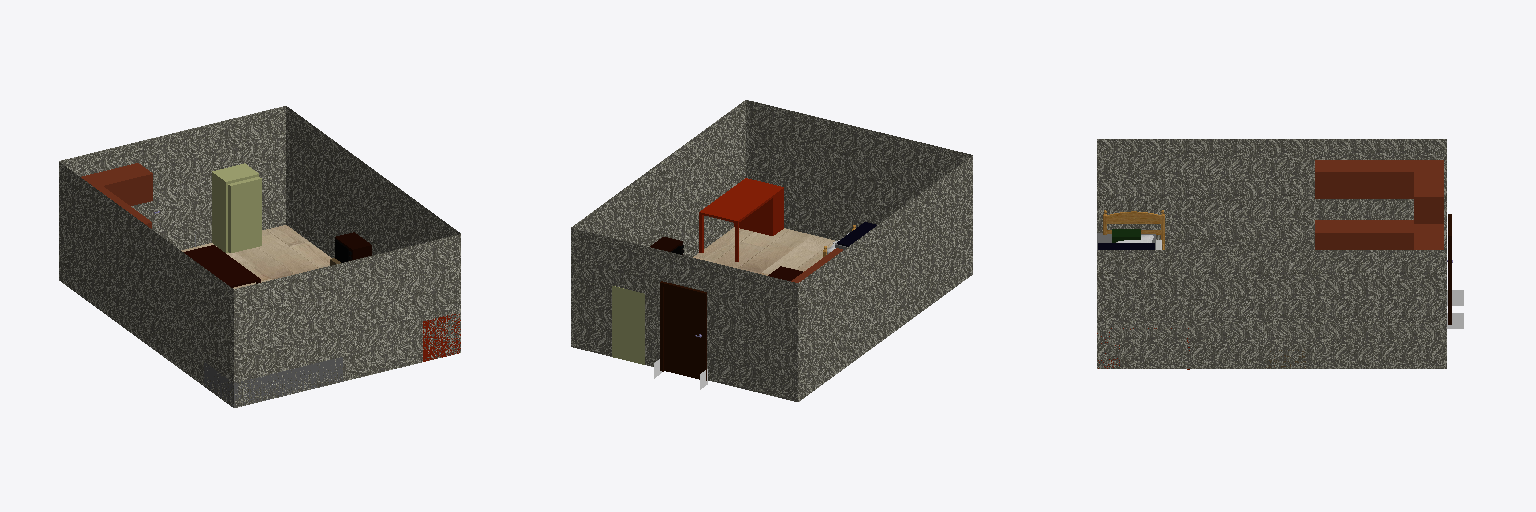
The picture shows the model from 3 angles: view 1: azimuth 30°, elevation 25°; view 2: azimuth 150°, elevation 25°; view 3: azimuth 270°, elevation 25°; orthographic projection.
Visible parts, largest first — view 1: Plane, Plane.003, Cube.005_Cube.007, Cube.010_Cube.014, Cube.011_Cube.015, Cube.004_Cube.006, Cube.008_Cube.019, Cube.001_Cube.012, Cube.015_Cube.023; view 2: Plane, Plane.003, Door.001_Door, Cube.004_Cube.006, Cube_Cube.002, Cube.001_Cube.012, DoorFrame_DoorFrane; view 3: Plane, Cube.011_Cube.015, Cube.048_Cube.032.
Part boxes in pixels (bbox=[...]): Plane: bbox=[59, 106, 460, 407]; Plane.003: bbox=[181, 225, 331, 288]; Cube.005_Cube.007: bbox=[228, 177, 261, 252]; Cube.010_Cube.014: bbox=[204, 357, 342, 407]; Cube.011_Cube.015: bbox=[81, 163, 152, 228]; Cube.004_Cube.006: bbox=[212, 163, 258, 252]; Cube.008_Cube.019: bbox=[184, 245, 260, 287]; Cube.001_Cube.012: bbox=[423, 315, 460, 361]; Cube.015_Cube.023: bbox=[335, 232, 371, 260]; Plane: bbox=[571, 100, 972, 401]; Plane.003: bbox=[693, 227, 834, 275]; Door.001_Door: bbox=[664, 288, 701, 379]; Cube.004_Cube.006: bbox=[612, 286, 644, 364]; Cube_Cube.002: bbox=[699, 178, 783, 223]; Cube.001_Cube.012: bbox=[734, 190, 783, 235]; DoorFrame_DoorFrane: bbox=[660, 281, 706, 380]; Plane: bbox=[1097, 139, 1446, 368]; Cube.011_Cube.015: bbox=[1315, 160, 1443, 249]; Cube.048_Cube.032: bbox=[1107, 211, 1160, 223].
Size of the model in its own units: 6 by 3.1 by 8.38.
Materials: 20 (3 with a texture image).